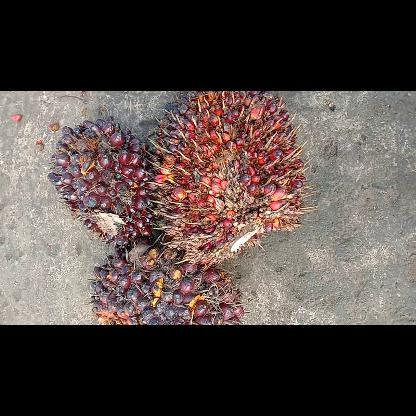Kurang masak: (48, 115, 160, 243), (89, 244, 244, 324)
TBS masak: (147, 92, 313, 262)
